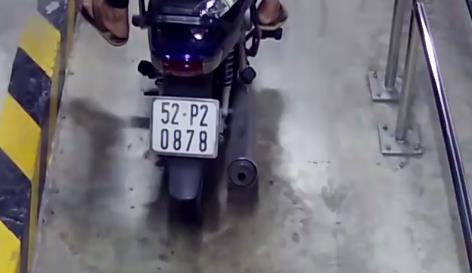lisence: (149, 96, 219, 158)
